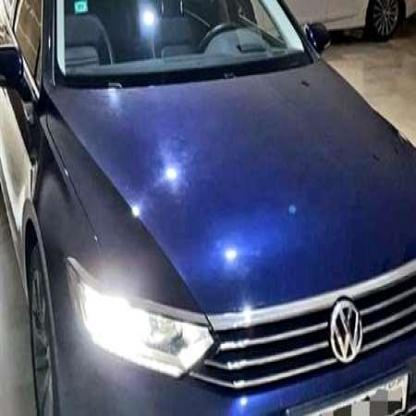Car: (0, 0, 416, 416), (274, 0, 416, 42)
